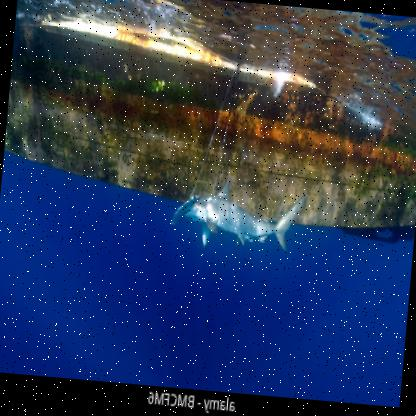hammerhead_Shark: (164, 162, 314, 272)
